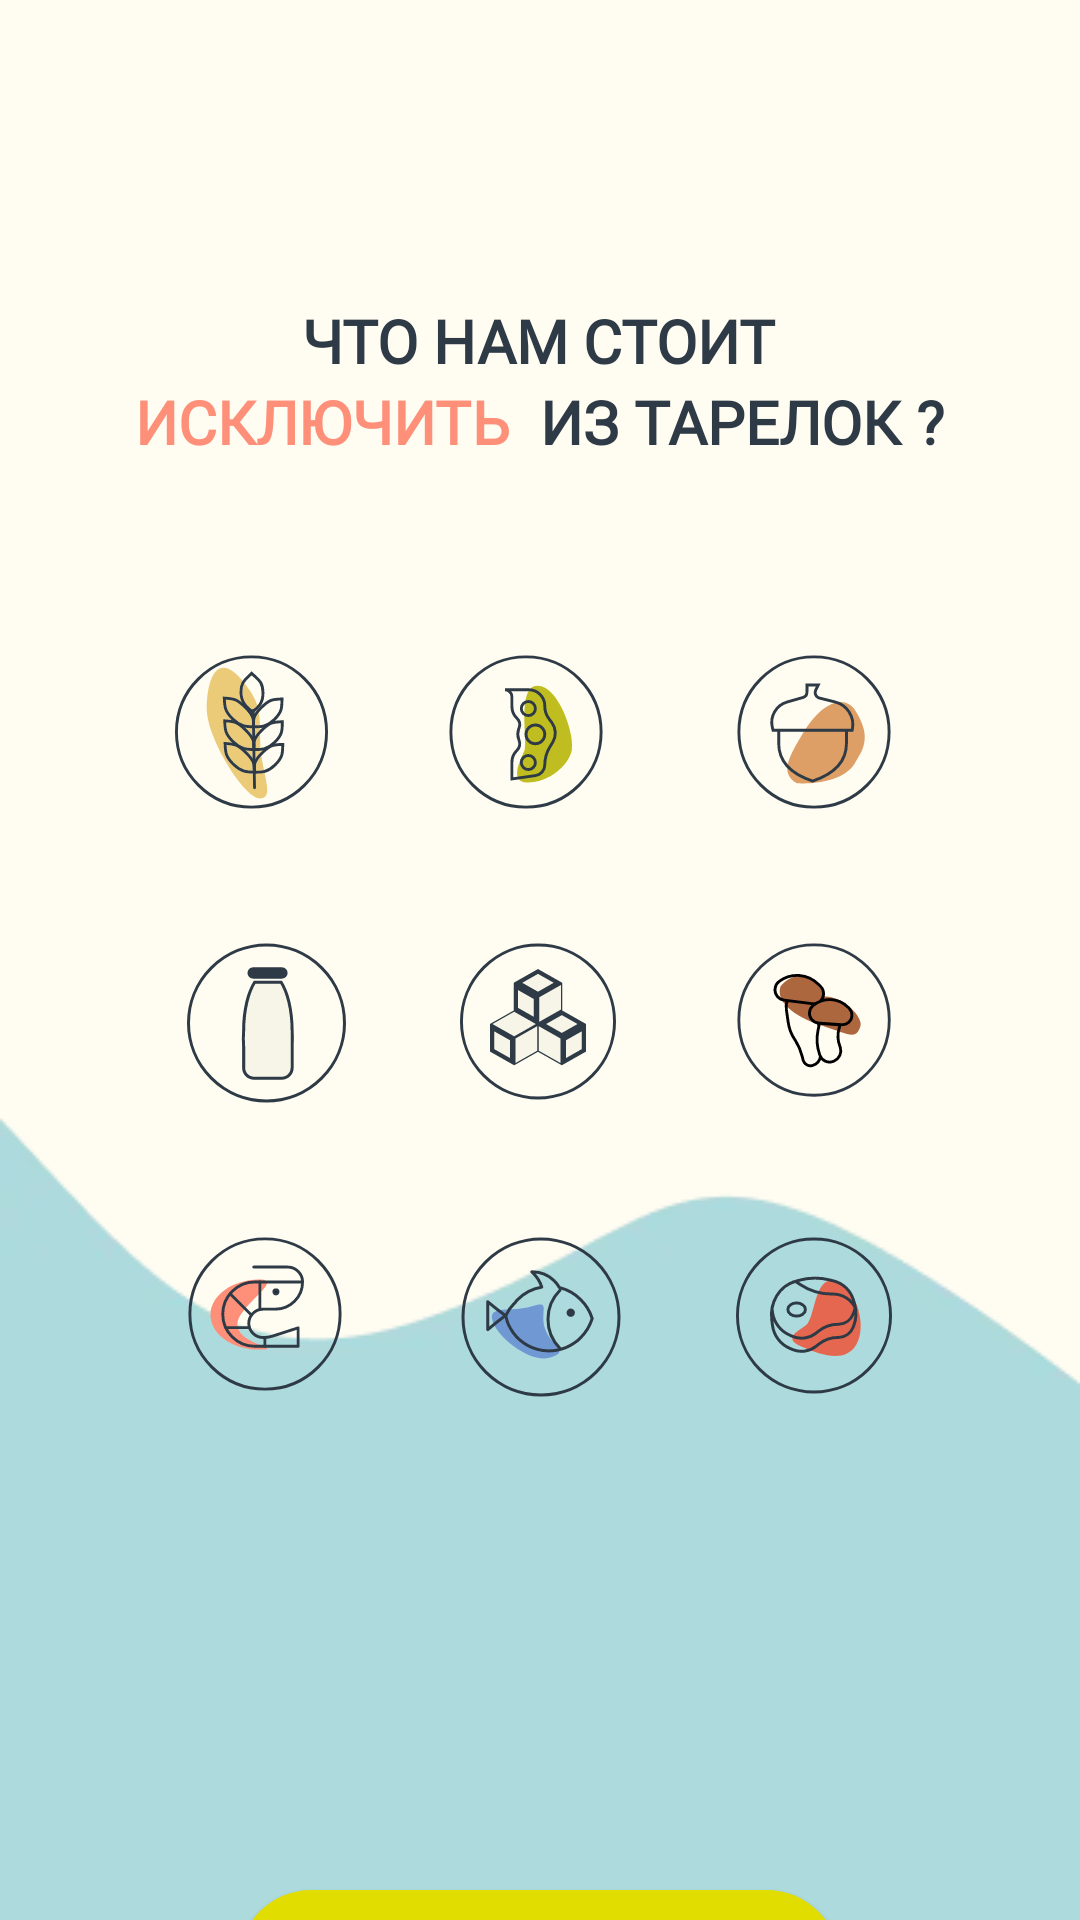

Screen size 1080w x 1920h. Icon name, then its center in pixels as (x=x, y=y):
fish: (x=540, y=1316)
gluten free: (x=251, y=732)
lactose free: (x=266, y=1023)
mushrooms: (x=814, y=1020)
nuts: (x=814, y=732)
seafood: (x=265, y=1314)
without meat: (x=814, y=1315)
without sugar: (x=538, y=1021)
